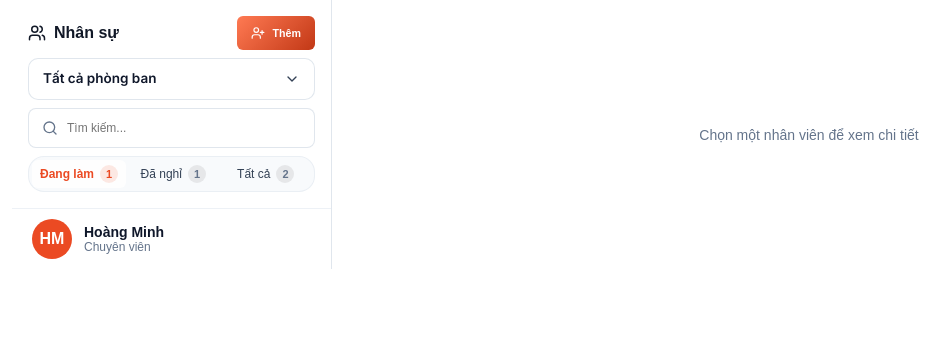
Scenario: EmployeeDirectory › filters employees by active, inactive, and all status tabs
Expected: the text "Hoàng Minh" is shown, [84, 224, 164, 240]
Expected: the text "Lê Văn Tèo" is not shown
Note: Switch to "Đã nghỉ" tab
Click the tab "Đã nghỉ 1": (173, 174) [128, 160, 218, 188]
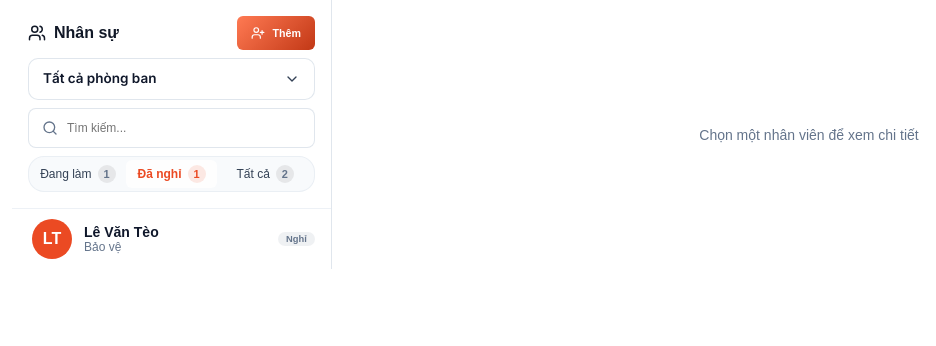
Expected: the button "Hoàng Minh" is gone
Expected: the text "Lê Văn Tèo" is shown, [84, 224, 159, 240]
Note: Switch to "Tất cả" tab
Click the tab "Tất cả 2": (265, 174) [219, 160, 311, 188]
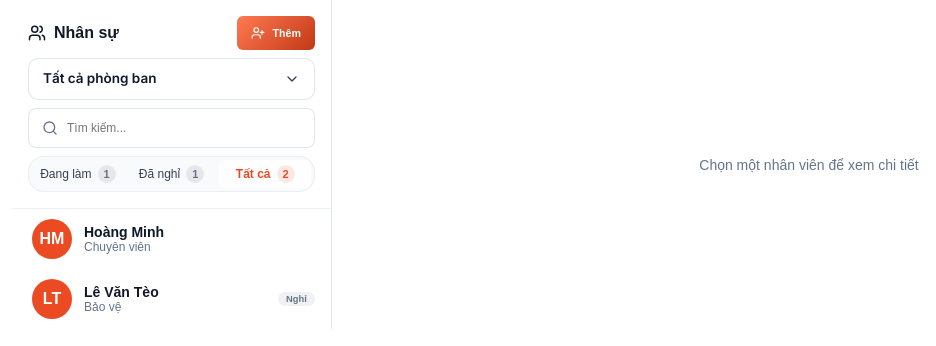
Expected: the text "Lê Văn Tèo" is shown, [84, 284, 159, 300]
Expected: the text "Hoàng Minh" is shown, [84, 224, 164, 240]
